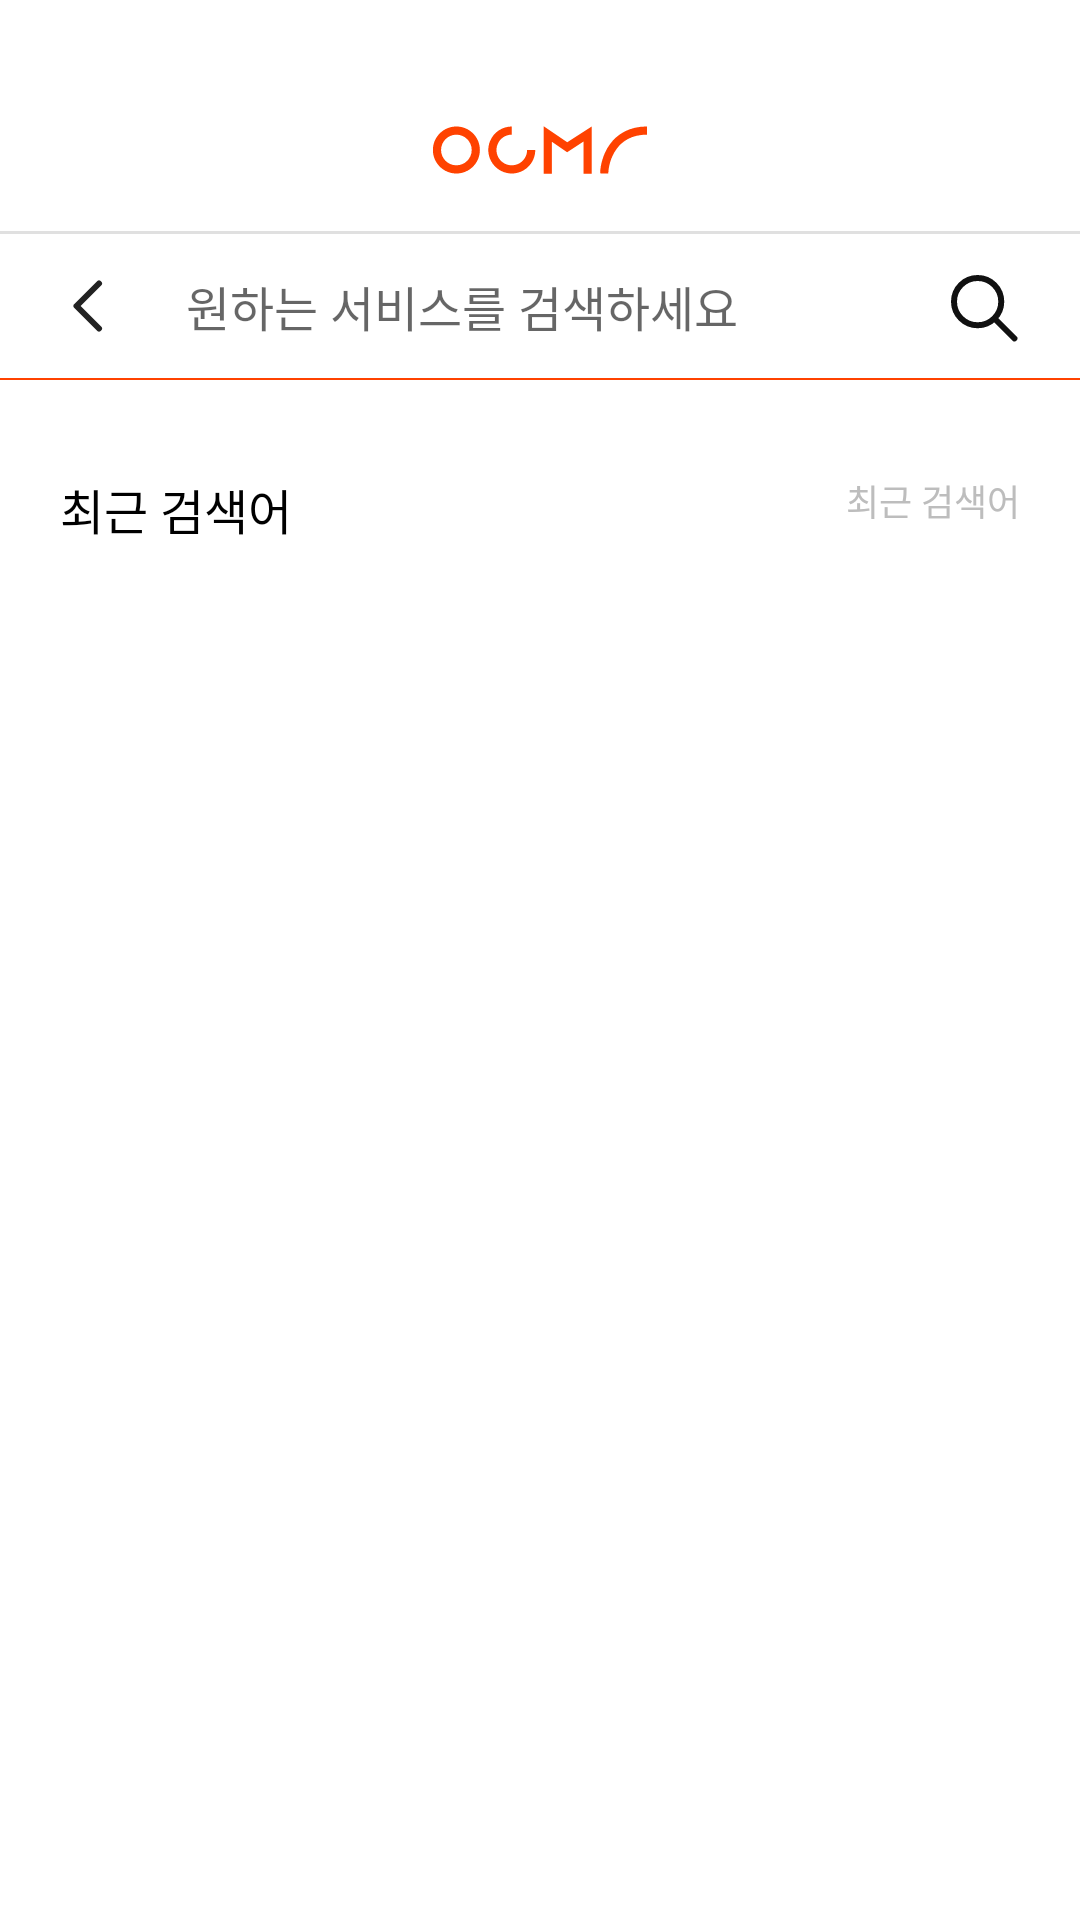

Where icons sit on this 1080px x 1920px app screen, as (x1,y1,x2,y2):
back: (73,280,103,332)
search: (951,275,1018,342)
